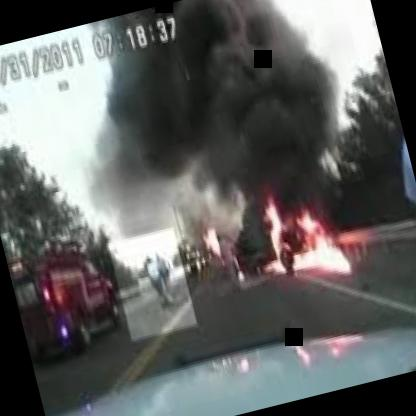fire: (230, 168, 361, 294)
